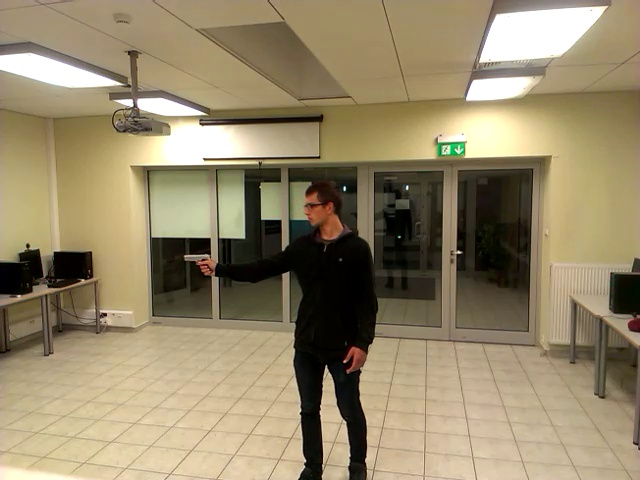gun: (176, 233, 234, 293)
